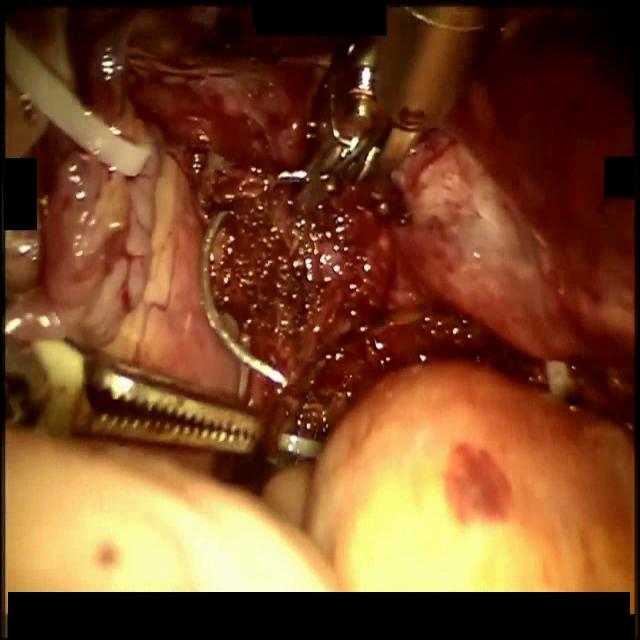surgical-area: (0, 0, 640, 589)
surgical-tool: (304, 0, 503, 187), (0, 338, 264, 454)
